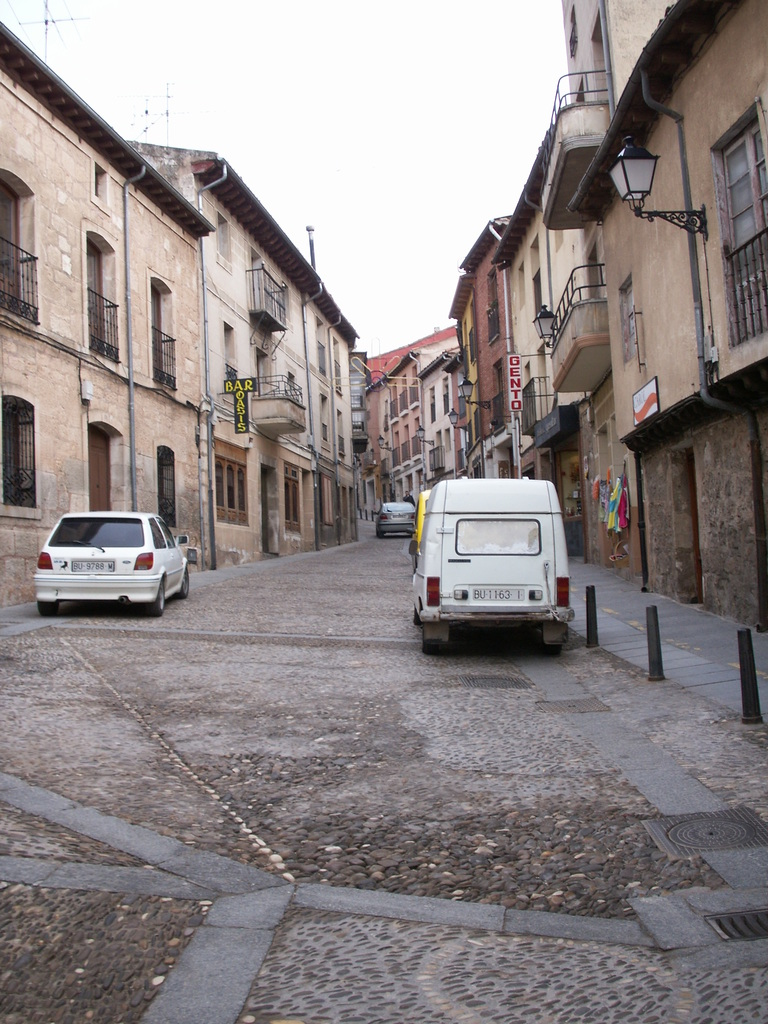Car: (32, 504, 195, 611), (376, 497, 421, 540)
